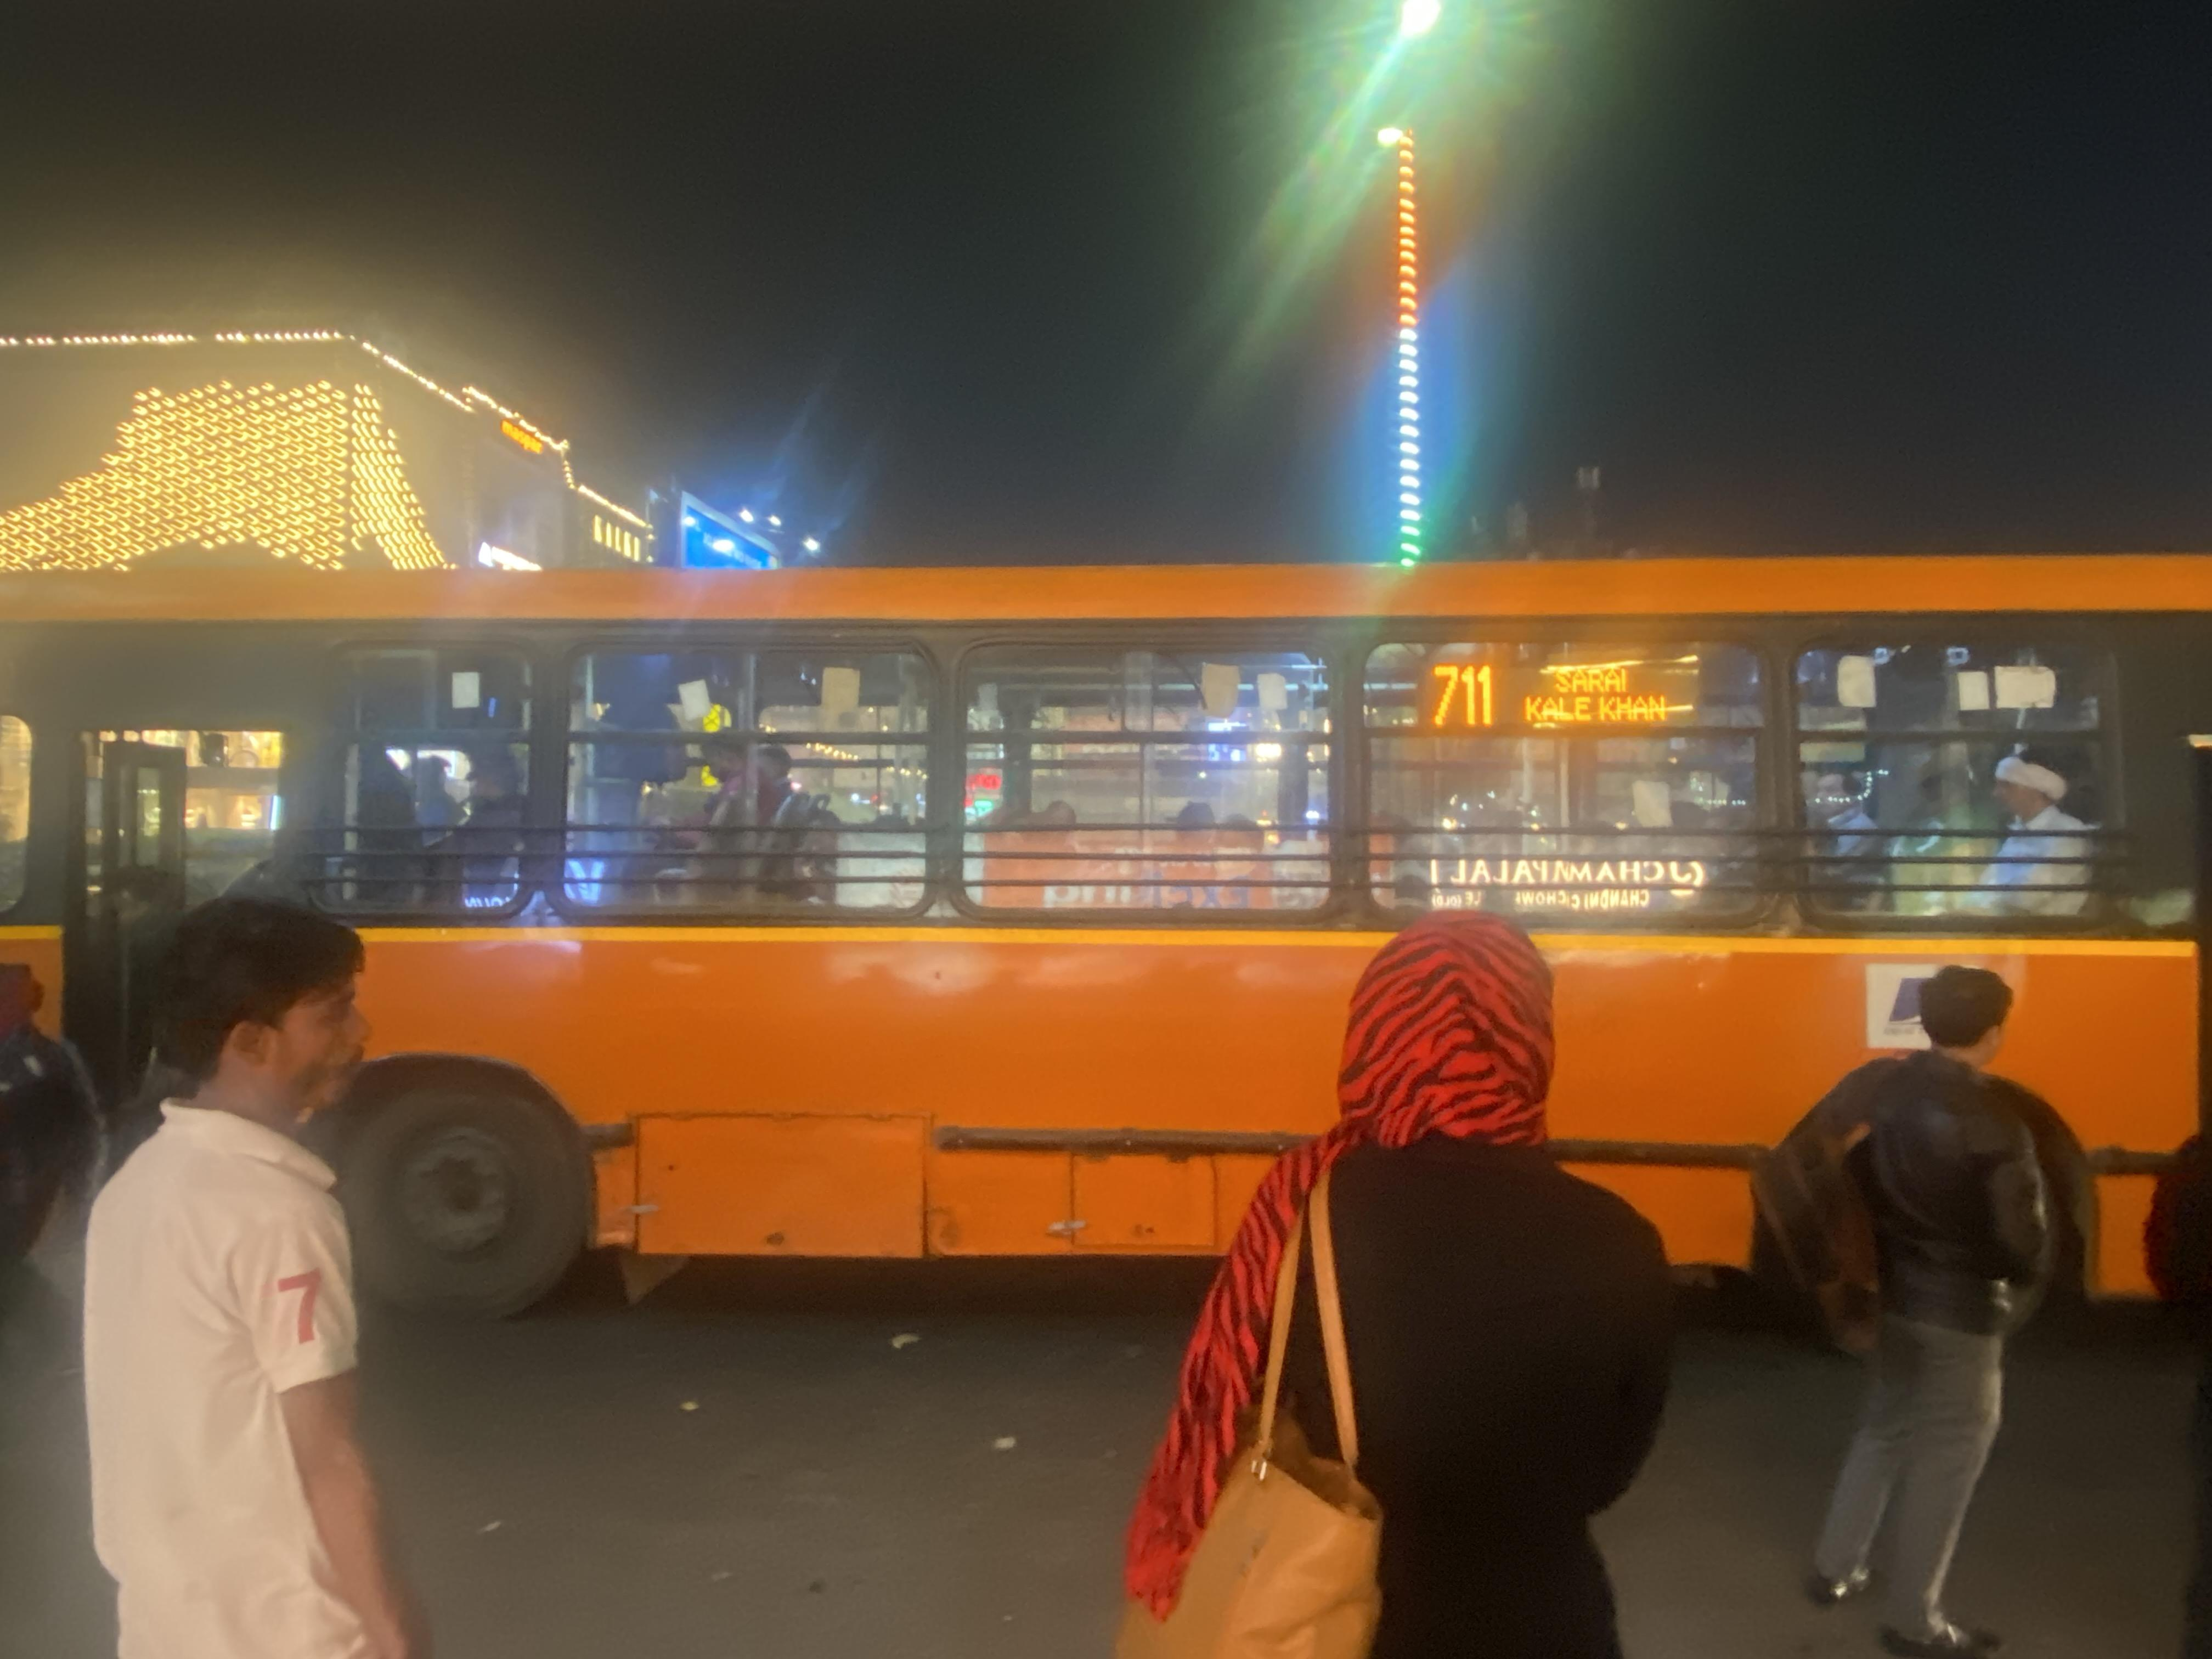Bus: (0, 512, 2207, 1352)
Display Board: (1399, 641, 1799, 756)
